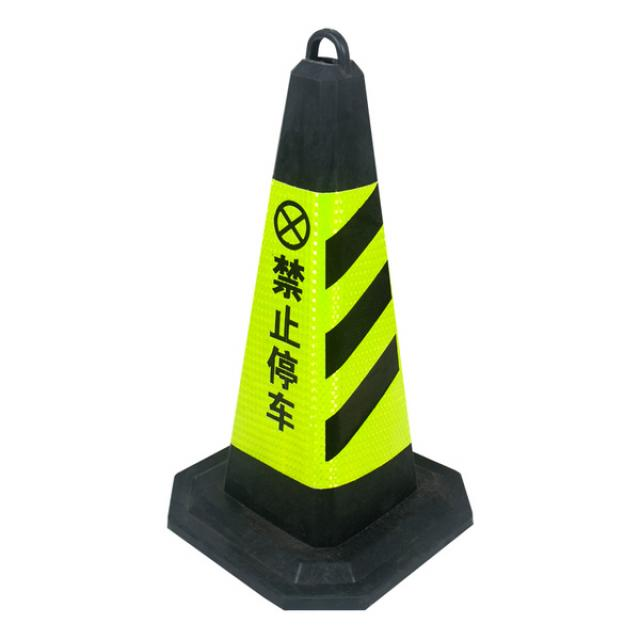reflective_cone: (162, 28, 477, 612)
